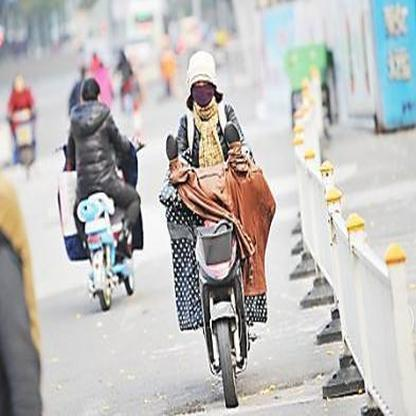target: (161, 50, 276, 408)
